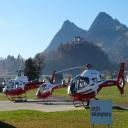helicopter: (67, 47, 128, 96), (3, 61, 58, 107), (36, 57, 75, 98)
